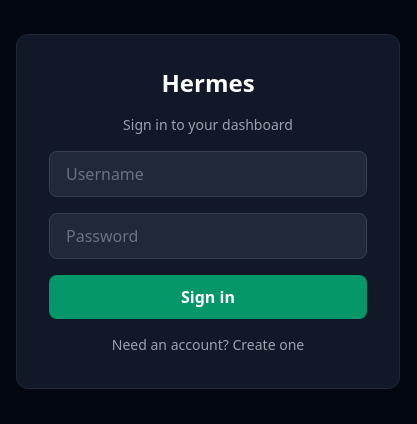
Test: Login › duplicate username shows a taken error
Click the button "Need an account? Create one".
click(208, 344)  # box x1=49 y1=334 x2=367 y2=354
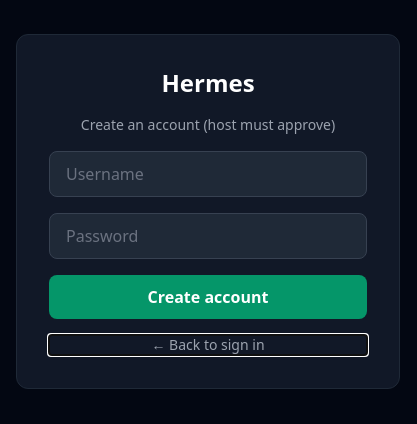
Type "bob" into the field labelled "Username".
click(208, 174); type("bob")  # box x1=49 y1=150 x2=367 y2=196
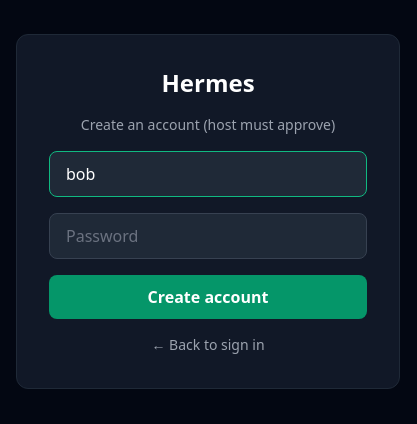
Type "pw" into the password field labelled "Password".
click(208, 236); type("pw")  # box x1=49 y1=212 x2=367 y2=258
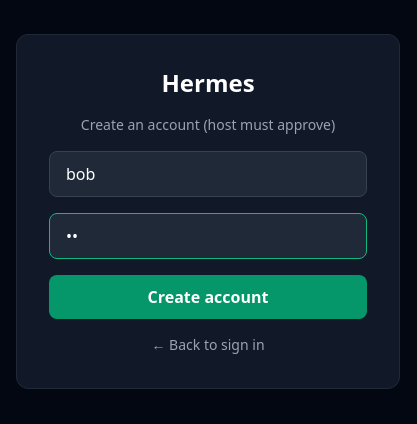
Click the button "Create account".
click(208, 296)  # box x1=49 y1=274 x2=367 y2=318
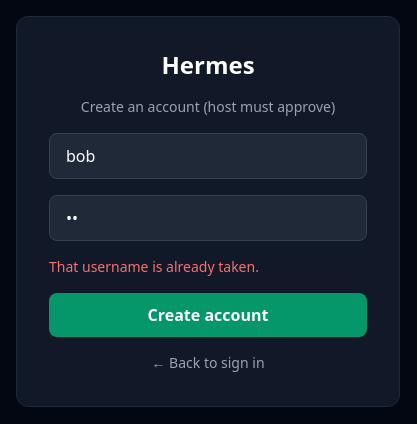
Expected: the message shows "taken", x1=49 y1=256 x2=259 y2=276
